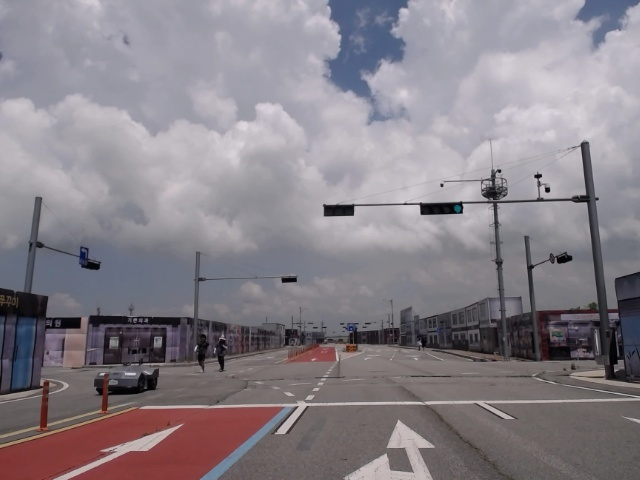straight_green_4: (421, 203, 464, 213)
